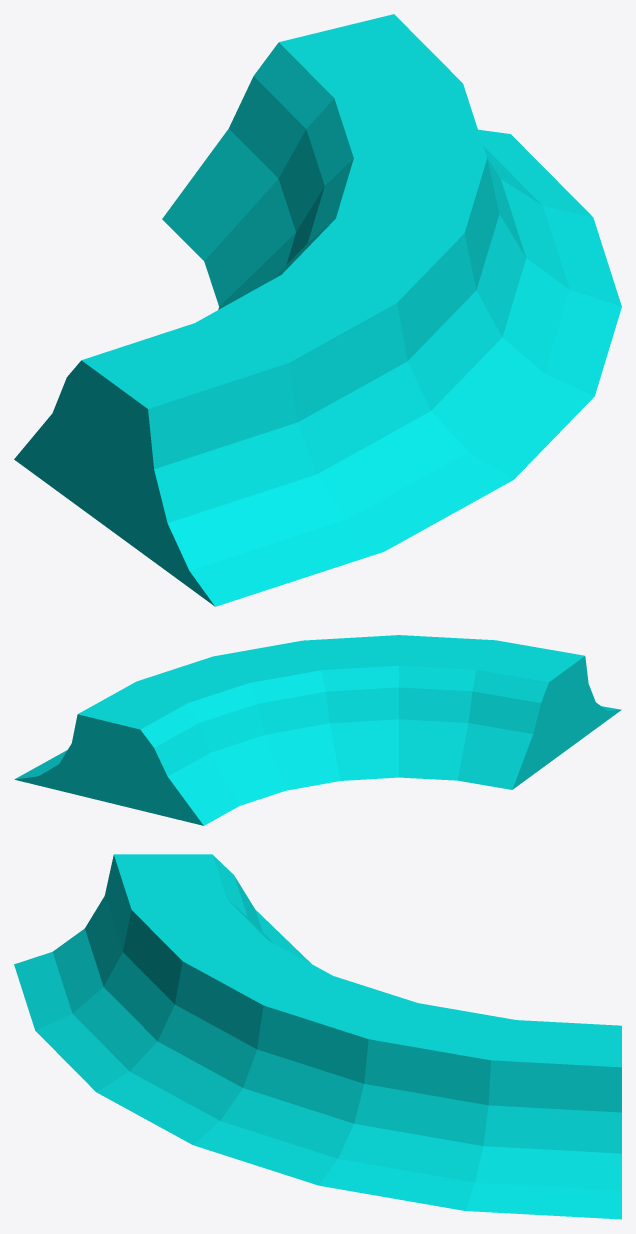
The model's file is SM_Env_Ramp_Curve_L_03_Collision.fbx.
The picture shows the model from 3 angles, top to bottom: view 1: azimuth 30°, elevation 25°; view 2: azimuth 150°, elevation 25°; view 3: azimuth 270°, elevation 25°; orthographic projection. The views are drawn at different scales.
Visible parts, largest first — view 1: SM_Env_Ramp_Curve_L_03_Collision; view 2: SM_Env_Ramp_Curve_L_03_Collision; view 3: SM_Env_Ramp_Curve_L_03_Collision.
Boxes of the visible parts, <box> form: SM_Env_Ramp_Curve_L_03_Collision: <box>14,14,621,606</box>; SM_Env_Ramp_Curve_L_03_Collision: <box>14,635,621,825</box>; SM_Env_Ramp_Curve_L_03_Collision: <box>14,854,621,1219</box>.
Bounding box in the file's own units: 746 × 150 × 752.
